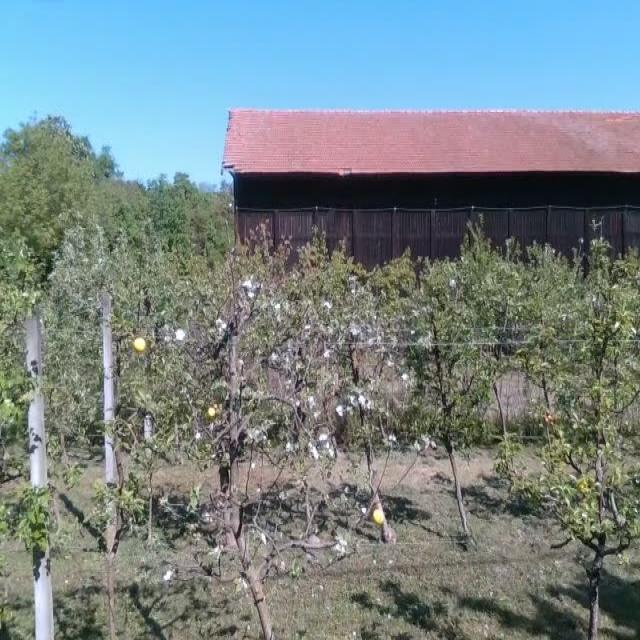red: (544, 411, 556, 425)
yellow: (372, 510, 386, 526), (132, 338, 147, 352), (208, 403, 216, 417)
